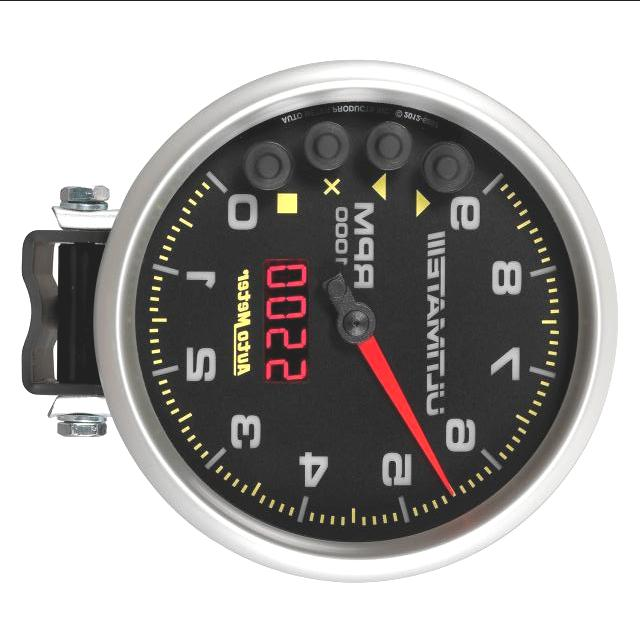Needle_Tip: (410, 420, 466, 512)
Needle_base: (330, 283, 385, 363)
max_value: (434, 186, 502, 237)
min_value: (216, 163, 283, 250)
